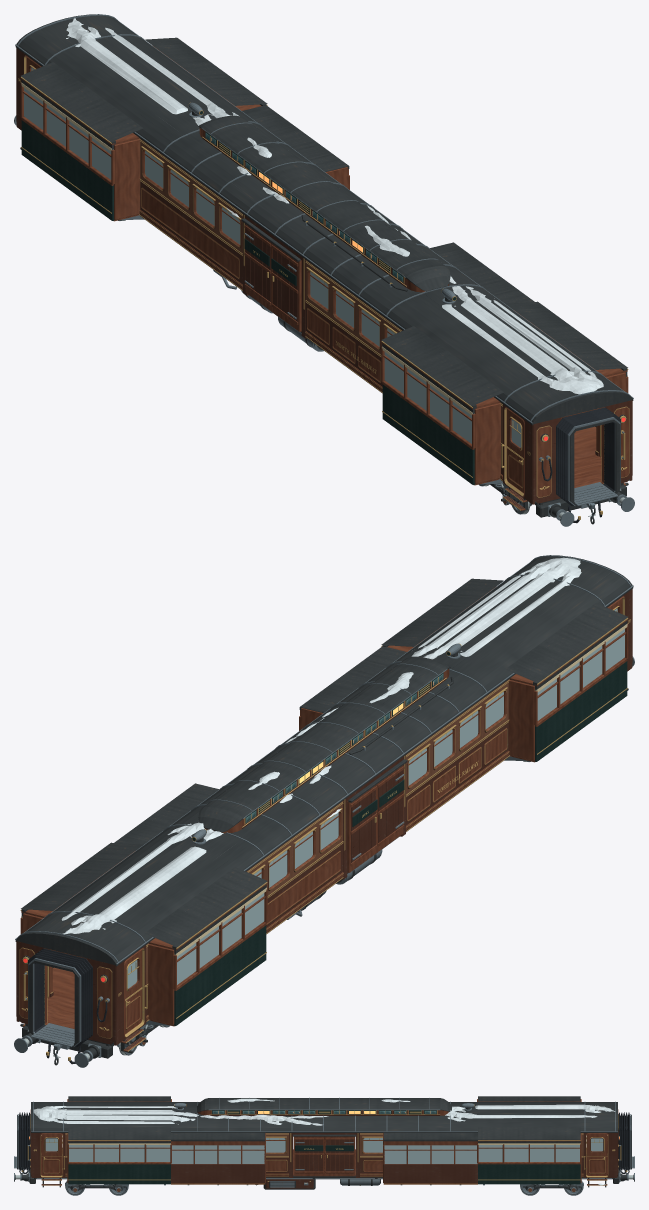
Rendered from Car09.fbx.
3 renders of one model, top to bottom at view 1: azimuth 30°, elevation 25°; view 2: azimuth 150°, elevation 25°; view 3: azimuth 270°, elevation 25°, orthographic. The views are drawn at different scales.
Parts seen in each view (by area): view 1: Roof_Structure, Expansion_Valuables_In_Transit, Expansion_Sorting_Office, Roof_Clerestory, Side_panels_Starboard, Roof_Snow, Gangway_A, Gallery_glass_Starboard, Cabin_windows_Starboard, Window_glass_Starboard, Stillage passage aft, LoadingDoor_Starboard_A (+7 smaller); view 2: Roof_Structure, Expansion_Sorting_Office, Expansion_Valuables_In_Transit, Roof_Clerestory, Side_panels_Starboard, Roof_Snow, Gangway_B, Gallery_glass_Starboard, Cabin_windows_Starboard, Window_glass_Starboard, Stillage passage fore, LoadingDoor_Starboard_B (+7 smaller); view 3: Roof_Structure, Expansion_Sorting_Office, Expansion_Valuables_In_Transit, Roof_Snow, Roof_Clerestory, Stillage passage aft, Stillage passage fore, Dispatch_aisle_glass, Gallery_glass_Port, Side_panels_Port, LoadingDoor_Port_A, LoadingDoor_Port_B (+17 smaller).
Boxes of the visible parts, x1,y1,x2,y2 form: Roof_Structure: (15, 14, 633, 425); Expansion_Valuables_In_Transit: (381, 301, 628, 485); Expansion_Sorting_Office: (20, 37, 267, 221); Roof_Clerestory: (198, 115, 450, 292); Side_panels_Starboard: (16, 48, 534, 504); Roof_Snow: (66, 18, 603, 394); Gangway_A: (533, 400, 632, 505); Gallery_glass_Starboard: (24, 88, 471, 443); Cabin_windows_Starboard: (140, 142, 399, 354); Window_glass_Starboard: (145, 151, 395, 346); Stillage passage aft: (242, 105, 349, 189); LoadingDoor_Starboard_A: (271, 244, 301, 331); Roof_Structure: (15, 555, 633, 966); Expansion_Sorting_Office: (20, 842, 267, 1026); Expansion_Valuables_In_Transit: (381, 578, 628, 762); Roof_Clerestory: (198, 656, 450, 833); Side_panels_Starboard: (114, 589, 632, 1045); Roof_Snow: (61, 557, 581, 934); Gangway_B: (16, 941, 115, 1046); Gallery_glass_Starboard: (177, 629, 624, 984); Cabin_windows_Starboard: (249, 683, 508, 895); Window_glass_Starboard: (253, 692, 503, 887); Stillage passage fore: (299, 646, 406, 730); LoadingDoor_Starboard_B: (347, 785, 377, 872); Roof_Structure: (31, 1101, 617, 1132); Expansion_Sorting_Office: (477, 1096, 581, 1185); Expansion_Valuables_In_Transit: (67, 1096, 171, 1185); Roof_Snow: (33, 1098, 615, 1125); Roof_Clerestory: (197, 1097, 451, 1115); Stillage passage aft: (383, 1132, 477, 1185); Stillage passage fore: (171, 1132, 265, 1185); Dispatch_aisle_glass: (171, 1145, 477, 1163); Gallery_glass_Port: (69, 1145, 579, 1161); Side_panels_Port: (31, 1133, 617, 1177); LoadingDoor_Port_A: (294, 1136, 324, 1176); LoadingDoor_Port_B: (324, 1136, 354, 1176).
Bounding box in the file's own units: 4.87 × 4.62 × 29.4.
2 materials, 2 textured.
